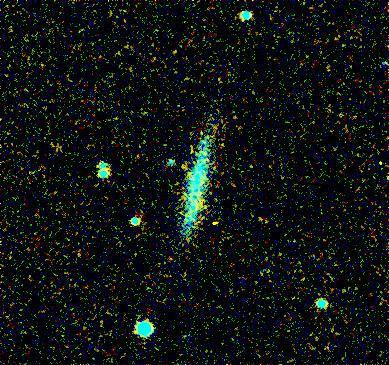star: (198, 207, 228, 237)
